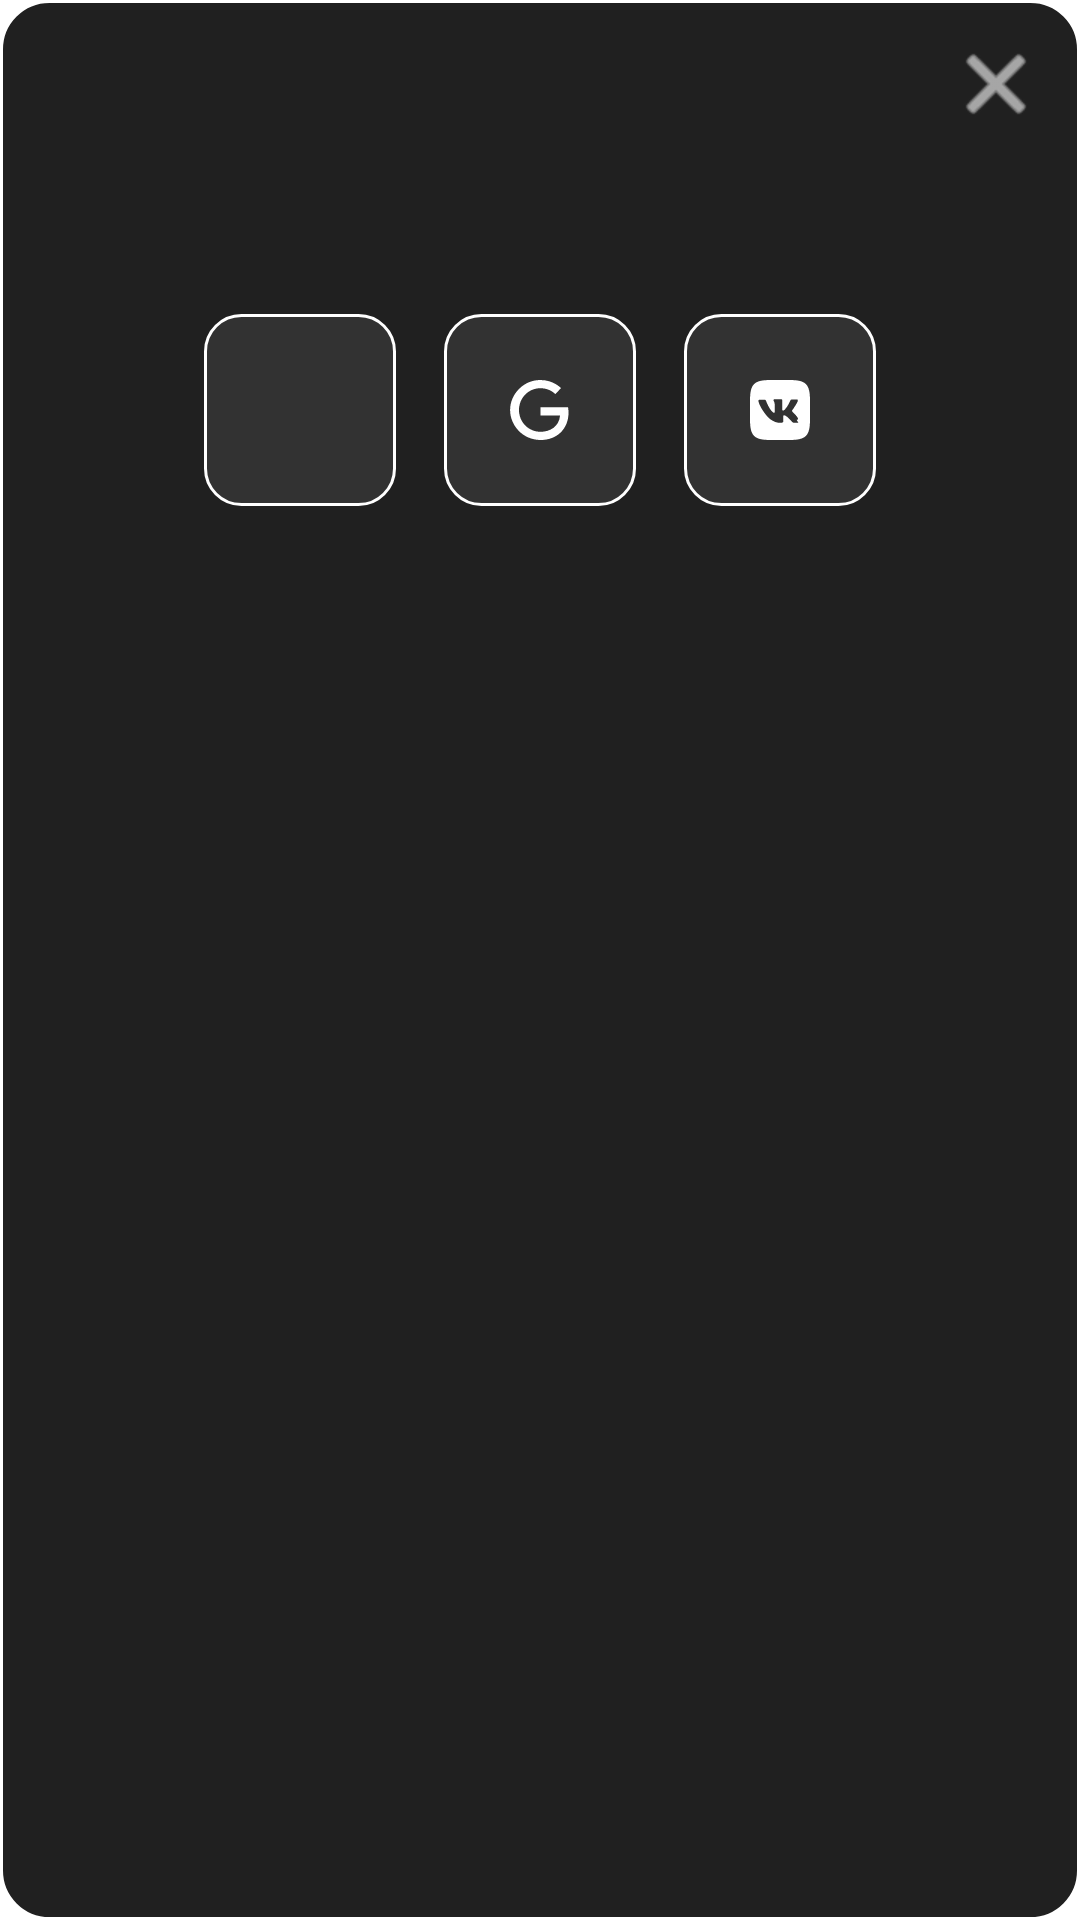

Icon bounding boxes for this 1080w x 1920h phone screenshot, format (x1, y1, x2, y2):
close clear cancel: (966, 54, 1026, 114)
